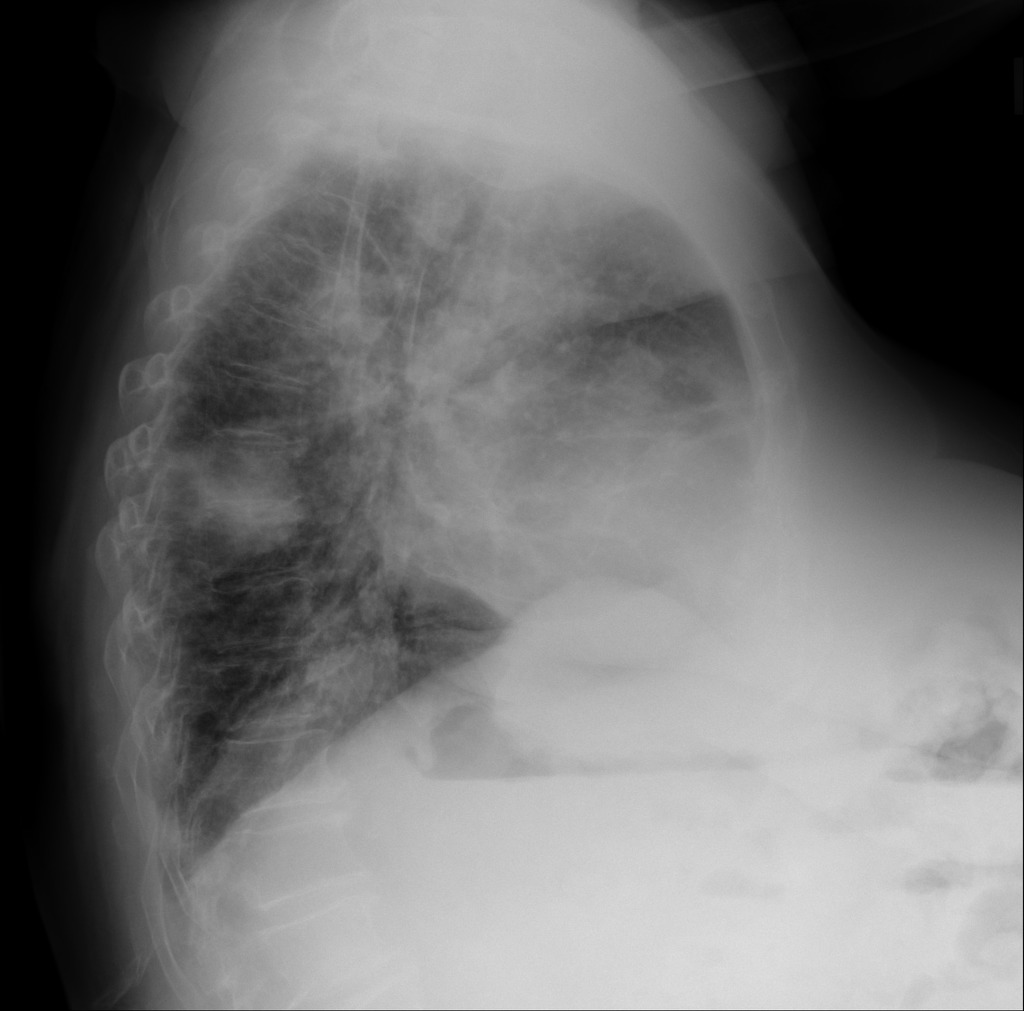cancer: (264, 169, 712, 774)
